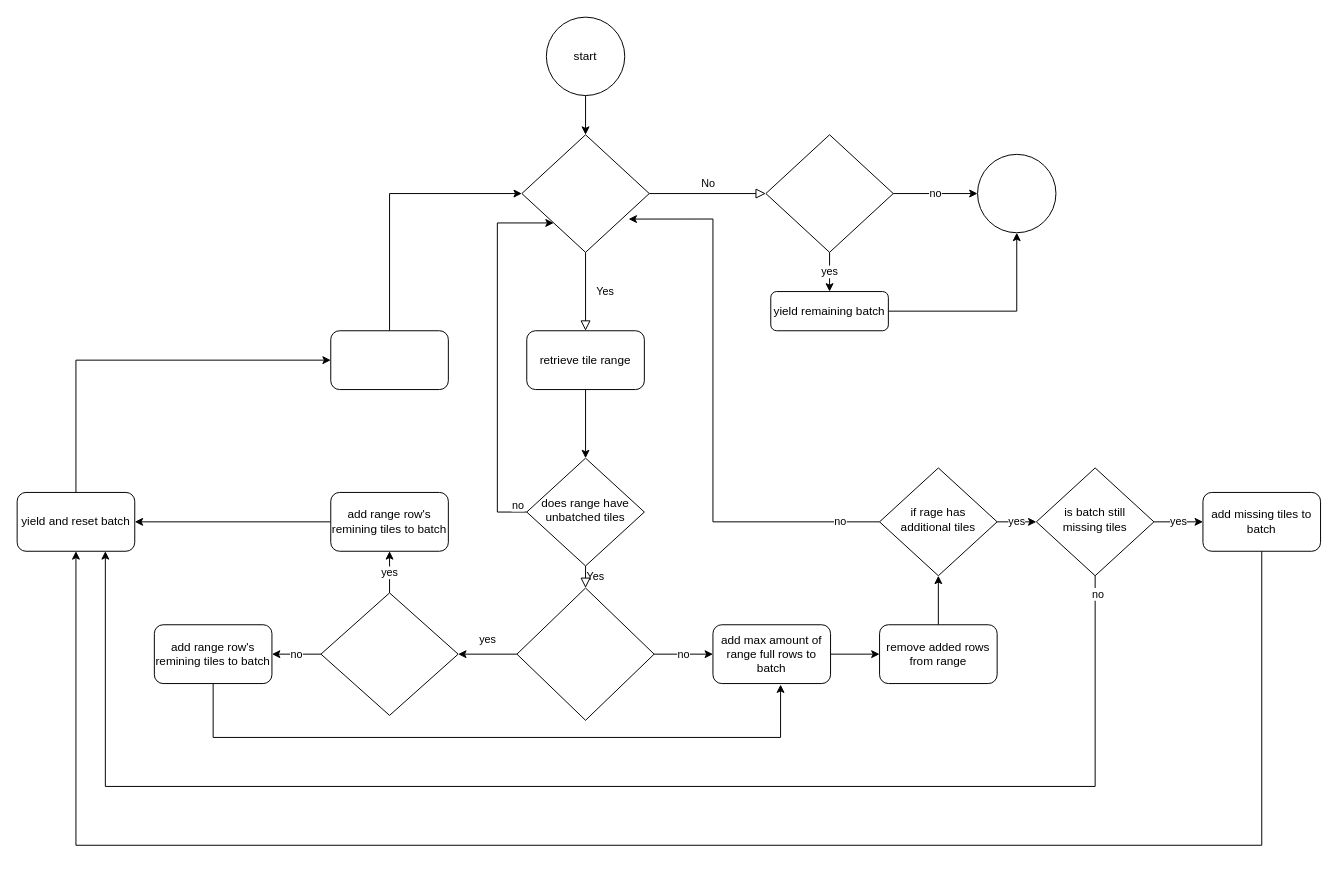
The diagram is 1338 pixels wide and 870 high, and some of its shapes have lost their labels. The centre of each missing label's shape, as x and y in pixels:
end: point (1016, 193)
has additional tile range: point (585, 193)
has partial batch: point (829, 193)
is batch missing less then remaining tiles: point (389, 653)
remove line from range: point (389, 360)
was the first batch line partly processed: point (585, 653)
